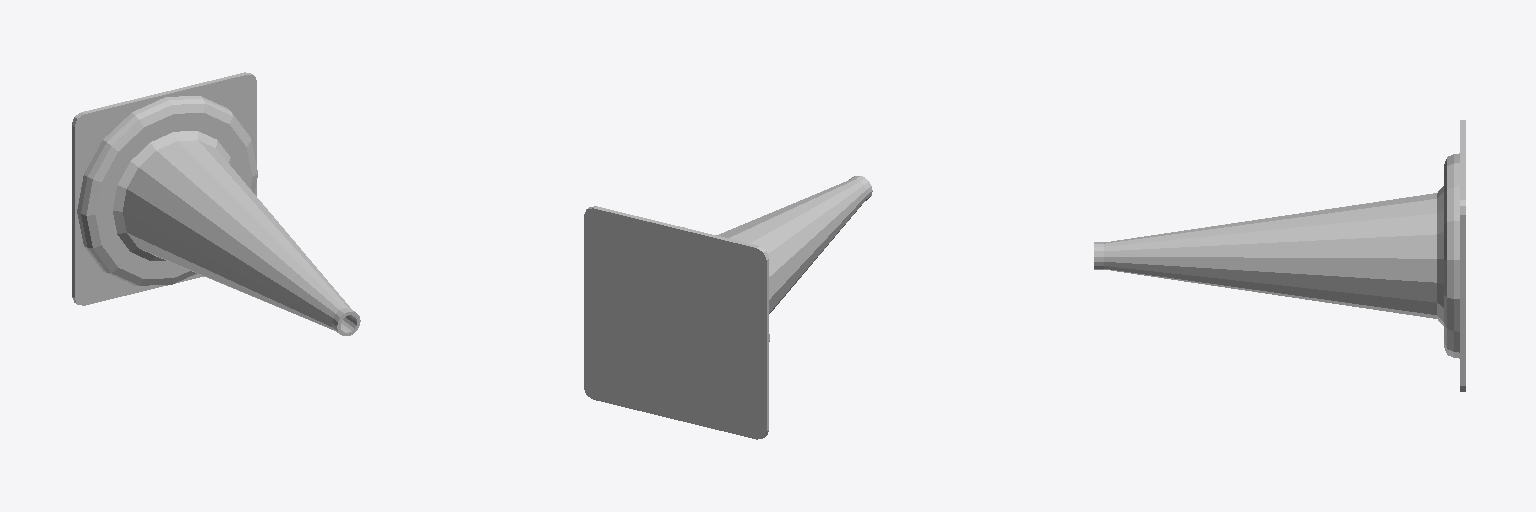
The model's file is TrafficCone_Large_Orange.obj.
3 views of the same model, side by side, from view 1: azimuth 30°, elevation 25°; view 2: azimuth 150°, elevation 25°; view 3: azimuth 270°, elevation 25° (orthographic).
Parts seen in each view (by area): view 1: TrafficCone_large.orange_Cylinder.007_plastic_orange_traffic.002, TrafficCone_large.orange_Cylinder.007_plastic_white_traffic.002; view 2: TrafficCone_large.orange_Cylinder.007_plastic_orange_traffic.002, TrafficCone_large.orange_Cylinder.007_plastic_white_traffic.002; view 3: TrafficCone_large.orange_Cylinder.007_plastic_orange_traffic.002, TrafficCone_large.orange_Cylinder.007_plastic_white_traffic.002.
Part boxes in pixels (bbox=[...]): TrafficCone_large.orange_Cylinder.007_plastic_orange_traffic.002: bbox=[72, 72, 360, 335]; TrafficCone_large.orange_Cylinder.007_plastic_white_traffic.002: bbox=[168, 177, 320, 313]; TrafficCone_large.orange_Cylinder.007_plastic_orange_traffic.002: bbox=[584, 176, 872, 439]; TrafficCone_large.orange_Cylinder.007_plastic_white_traffic.002: bbox=[716, 197, 839, 313]; TrafficCone_large.orange_Cylinder.007_plastic_orange_traffic.002: bbox=[1094, 120, 1465, 391]; TrafficCone_large.orange_Cylinder.007_plastic_white_traffic.002: bbox=[1180, 204, 1364, 307].
Bounding box in the file's own units: 0.29 × 0.29 × 0.51.